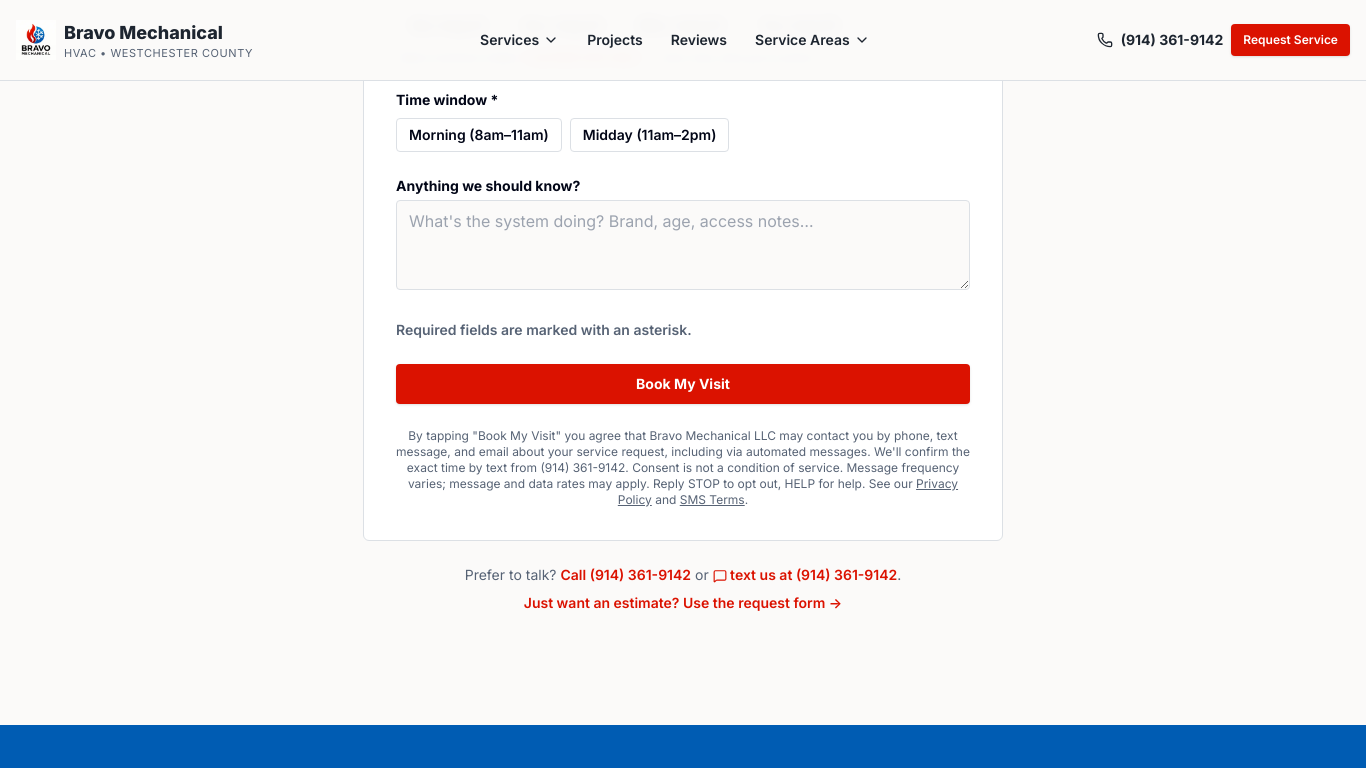
Test: recoverable lead forms › focuses and describes the first invalid booking field
This screenshot has width=1366, height=768.
(page scrolled)
Click the button "Book My Visit".
click(683, 384)  # box [396,364,970,404]
(page scrolled)
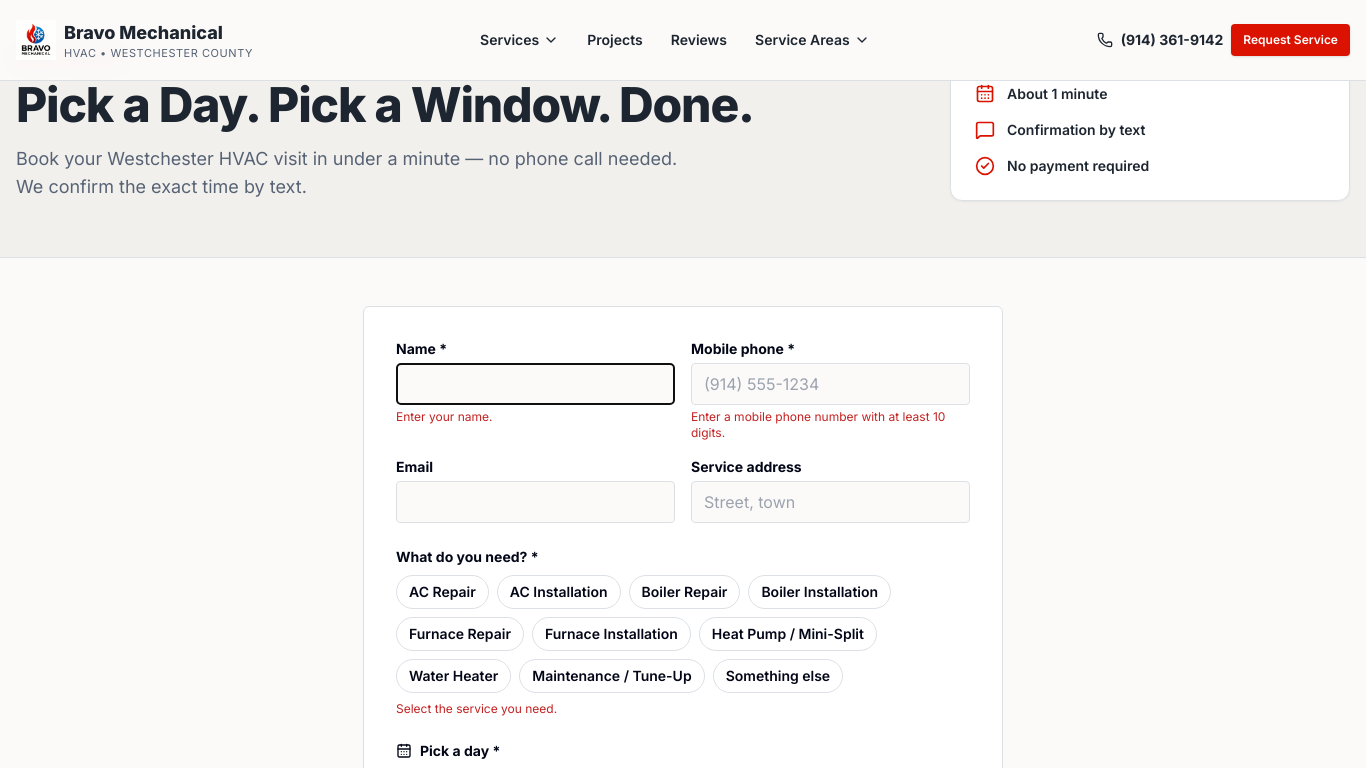
Expected: the field labelled "Name *" is marked as invalid, [396,363,675,405]
Expected: the element "What do you need" has attribute aria-describedby="booking-service-error", [396,547,970,717]
